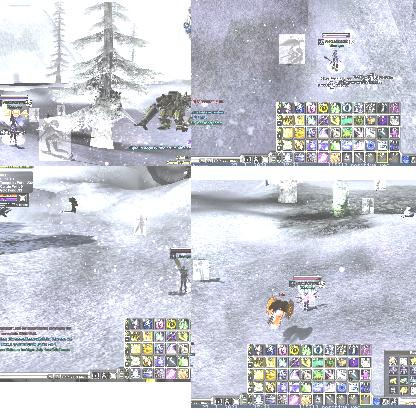caliana: (39, 119, 71, 161), (279, 34, 305, 64), (193, 260, 209, 280), (134, 215, 146, 235), (362, 198, 374, 214), (29, 108, 39, 122), (374, 180, 386, 190), (57, 105, 65, 115)
